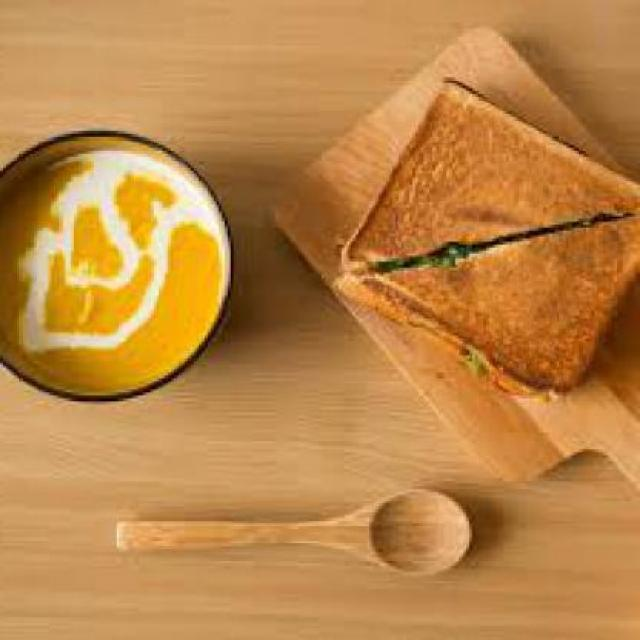clam chowder: (3, 114, 245, 421)
